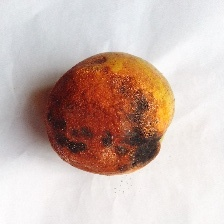guava: (34, 29, 222, 205)
